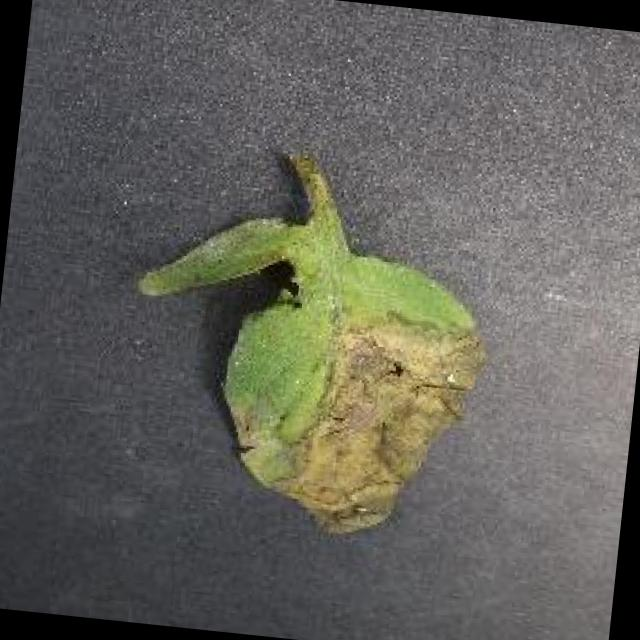Tomato_Late_Blight: (233, 266, 498, 556)
